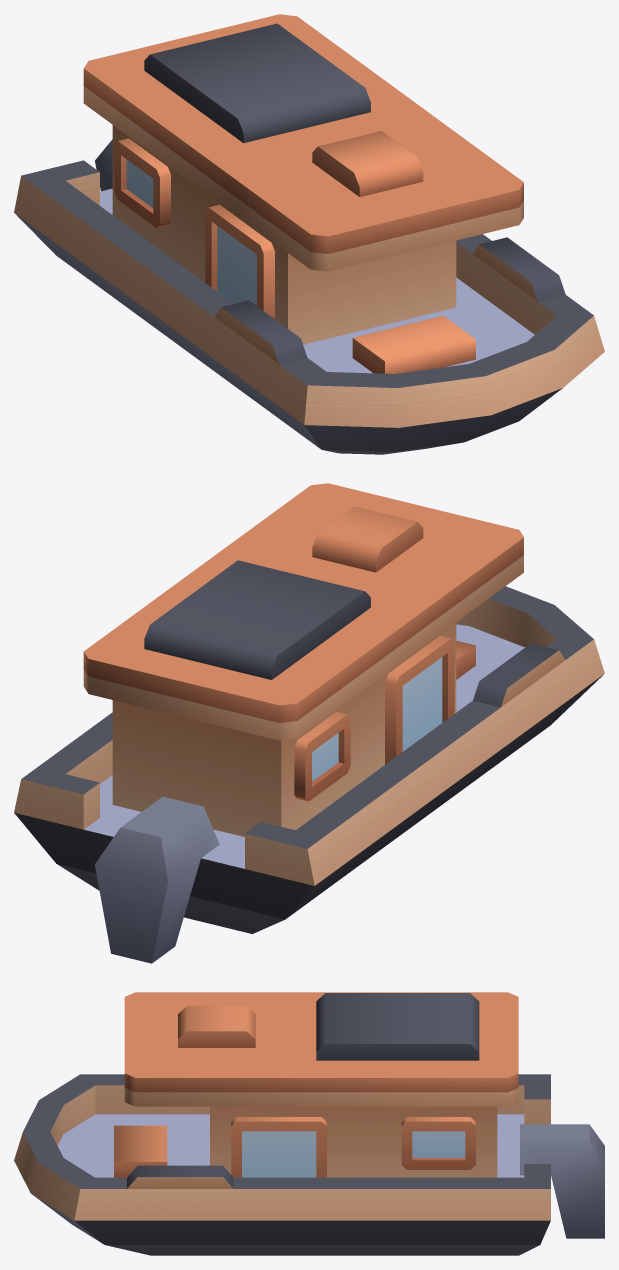
File: boat-house-b-transformed-transformed.glb
The picture shows the model from 3 angles, top to bottom: view 1: azimuth 30°, elevation 25°; view 2: azimuth 150°, elevation 25°; view 3: azimuth 270°, elevation 25°; orthographic projection. The views are drawn at different scales.
Parts seen in each view (by area): view 1: boat-house-b; view 2: boat-house-b; view 3: boat-house-b.
Part boxes in pixels (box(x1,y1,x2,y2)): boat-house-b: box(14, 14, 604, 454); boat-house-b: box(14, 483, 604, 963); boat-house-b: box(14, 992, 604, 1255).
Bounding box in the file's own units: 2.68 × 2.2 × 5.55.
Materials: 1 (1 with a texture image).
